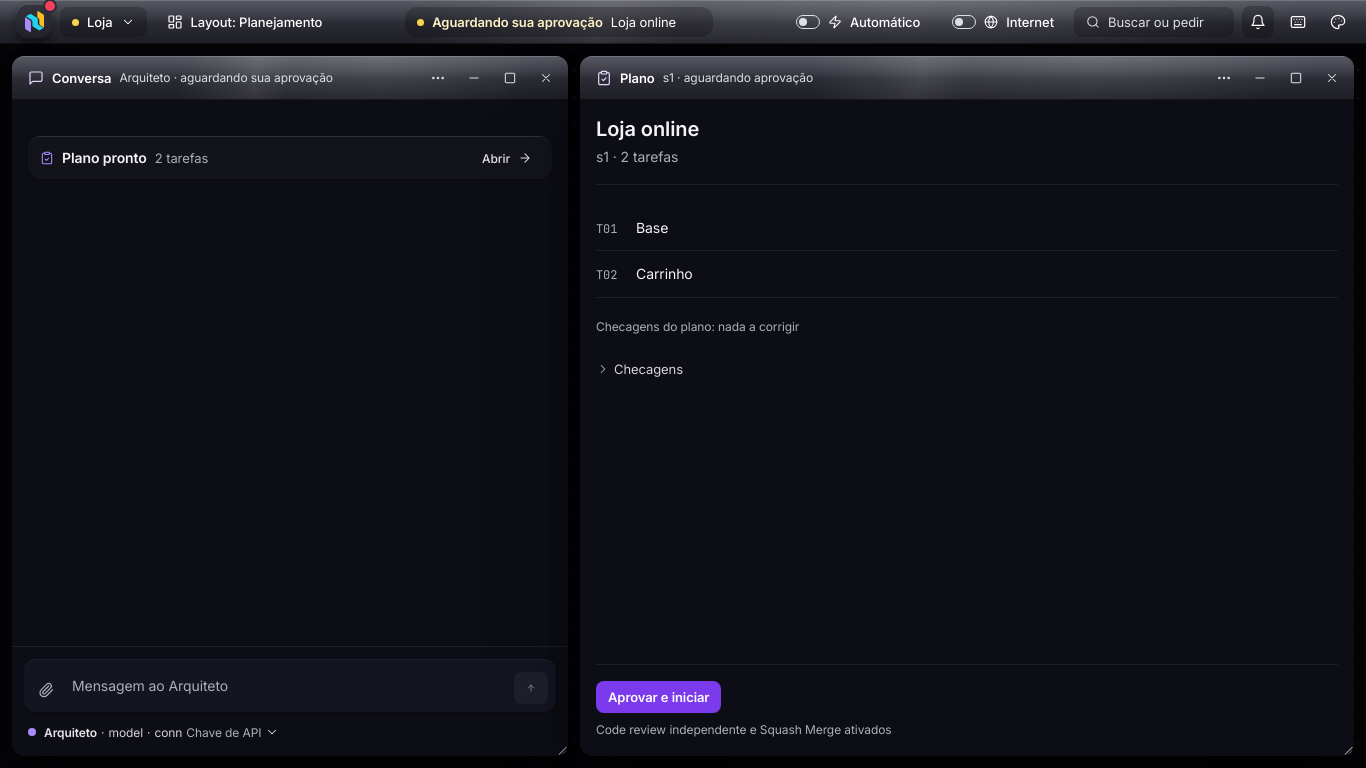
Conversa: plano pronto › mostra só o cartão compacto 'Plano pronto · Abrir Plano'; o plano fica na janela Plano
Expected: the element showing "Plano pronto 2 tarefas Abrir" is shown, [28,136,552,179]
Fecha o Plano e reabre pelo cartão.
Click the button named "Fechar" in the row of "s1 · aguardando aprovação".
click(1332, 78)  # box [1318,64,1346,92]
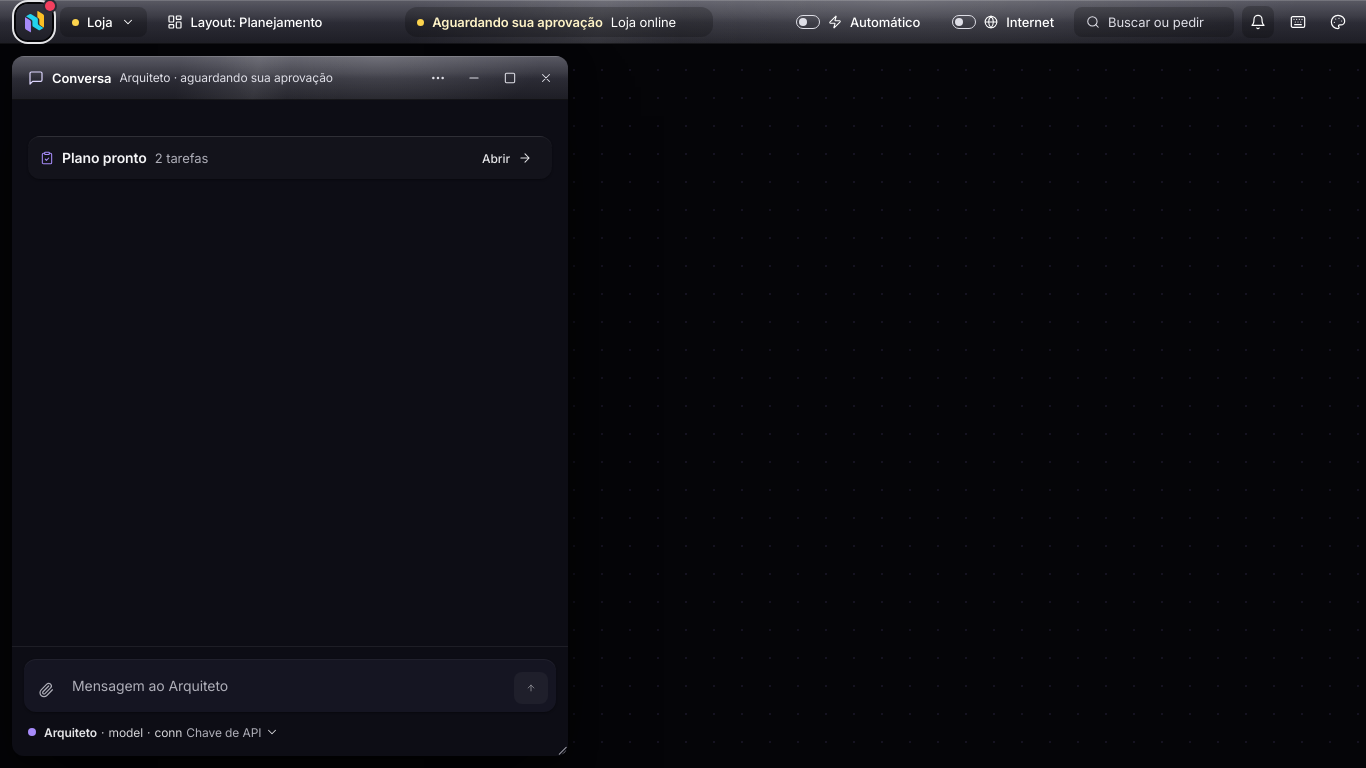
Click the button with aria-label "Abrir Plano".
click(507, 158)  # box [474,145,540,171]
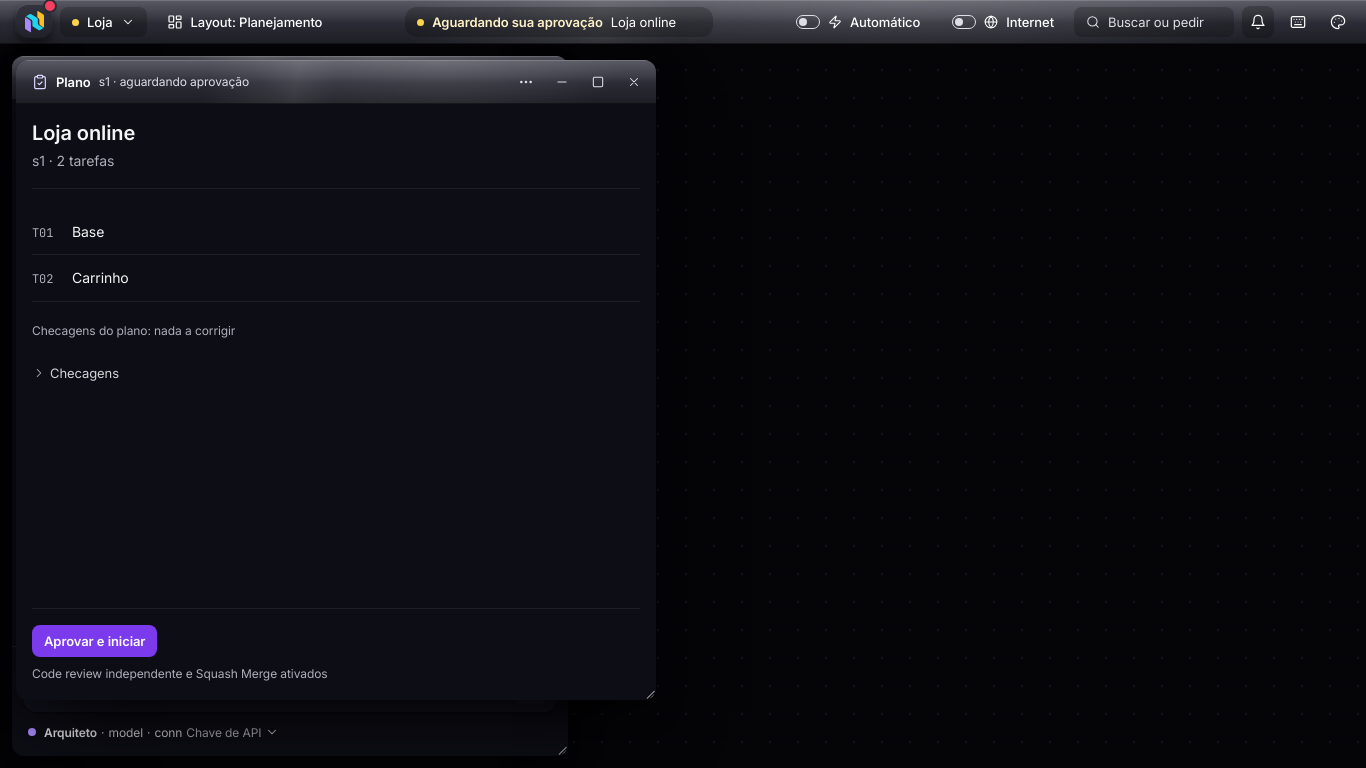
Now the element "Plano" is shown, box [16,60,656,700]
